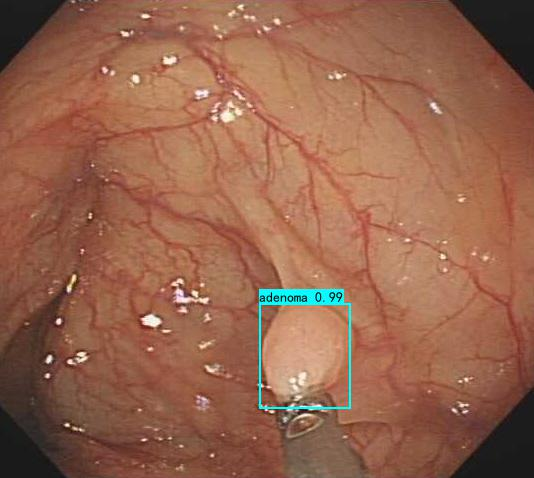adenoma: (257, 295, 359, 405)
